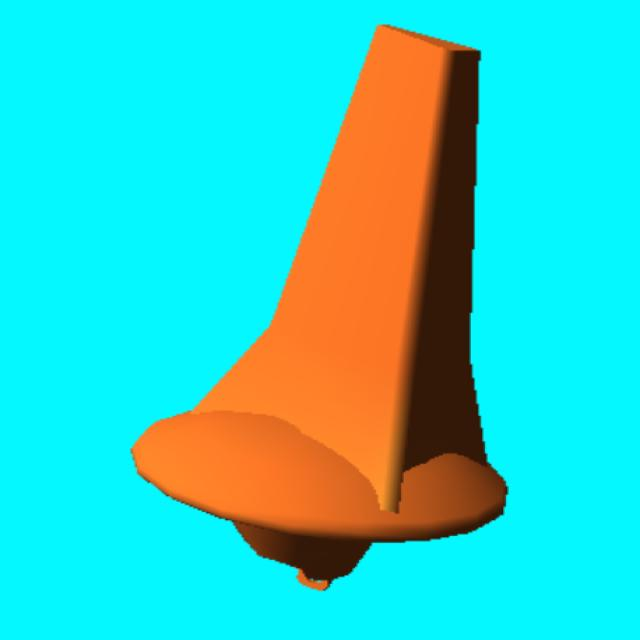OrangeBuoy: (133, 25, 506, 584)
